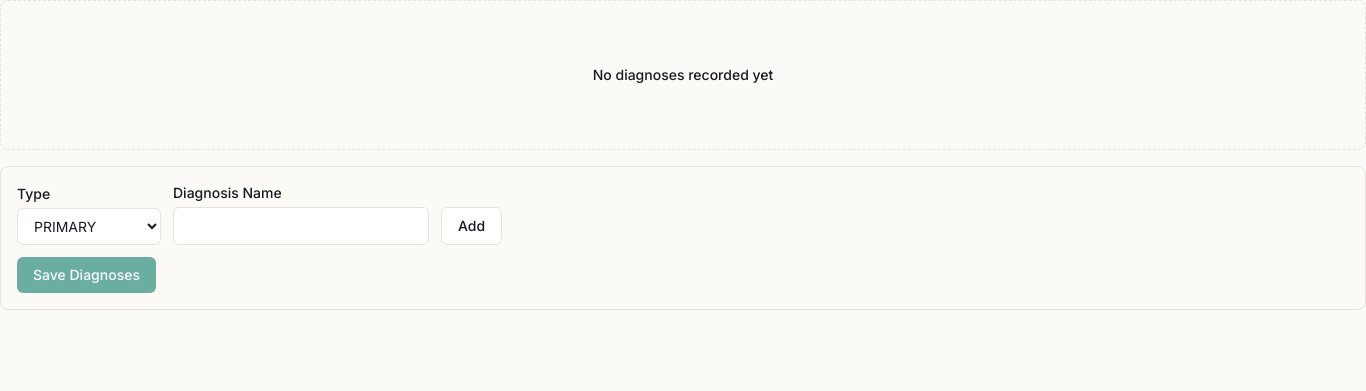
Test case: DiagnosisSection › keeps Save disabled until at least one staged entry is PRIMARY
Type "Karies dentin" into the field labelled "Diagnosis Name".
click(301, 226); type("Karies dentin")  # box [173, 207, 429, 245]
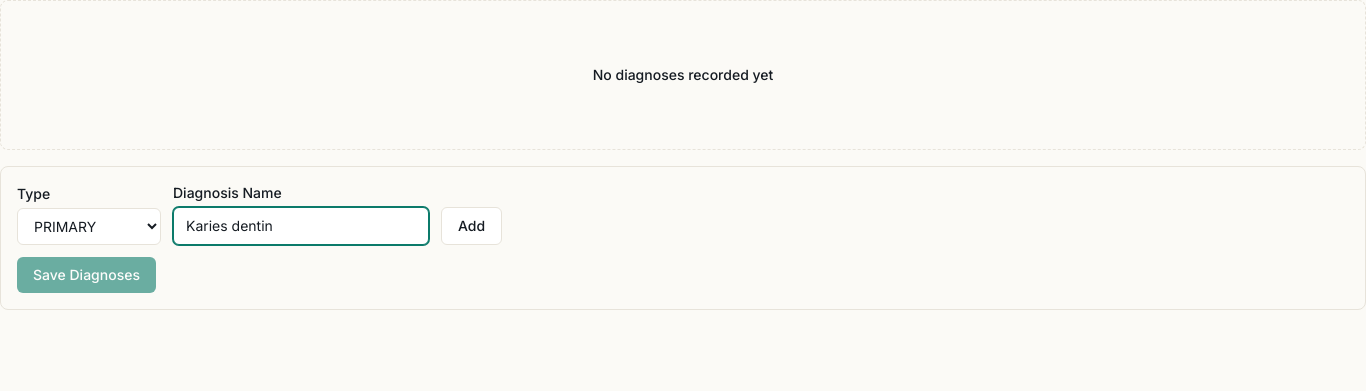
Select "SECONDARY" in the dropdown labelled "Type" at (89, 226), box [17, 208, 161, 245]
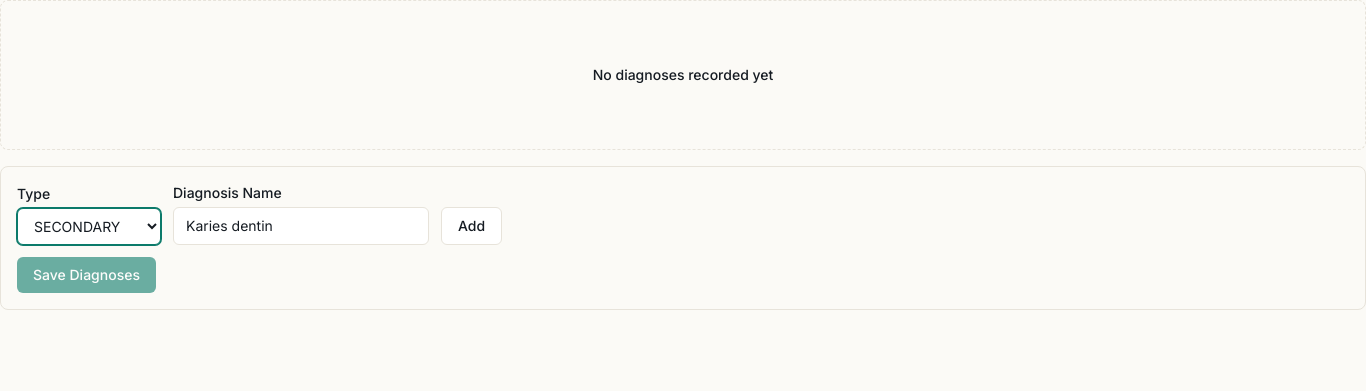
Click the button "Add".
click(472, 226)  # box [441, 207, 502, 245]
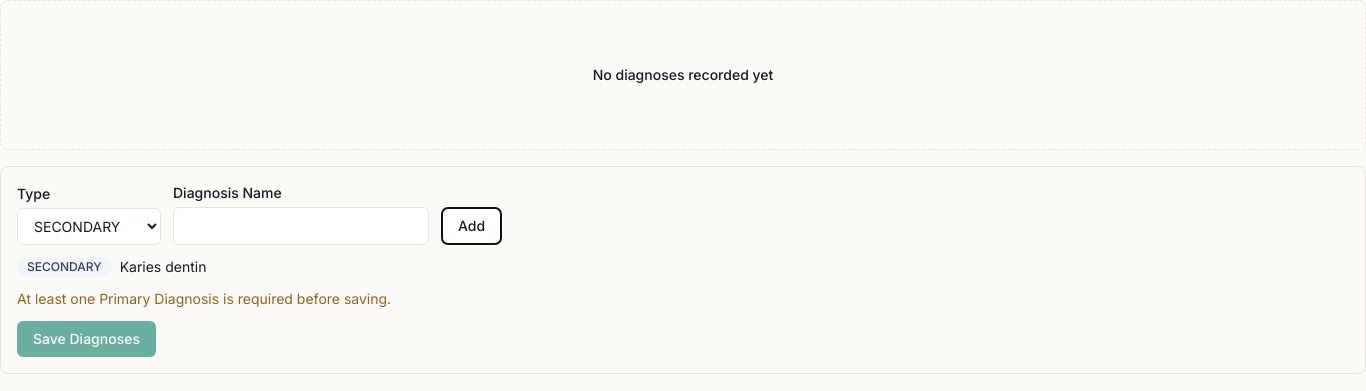
Expected: the button "Save Diagnoses" is disabled, [17, 321, 156, 357]
Expected: the text "At least one Primary Diagnosis is required before saving." is shown, [17, 290, 391, 307]
